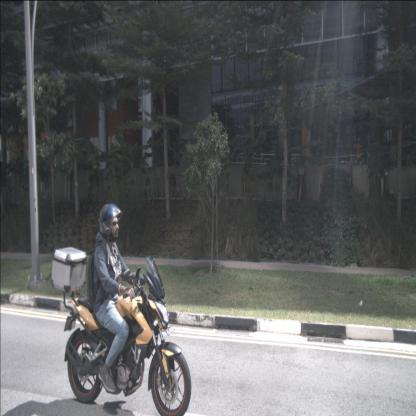vehicle-motorcycle: (51, 202, 192, 416)
